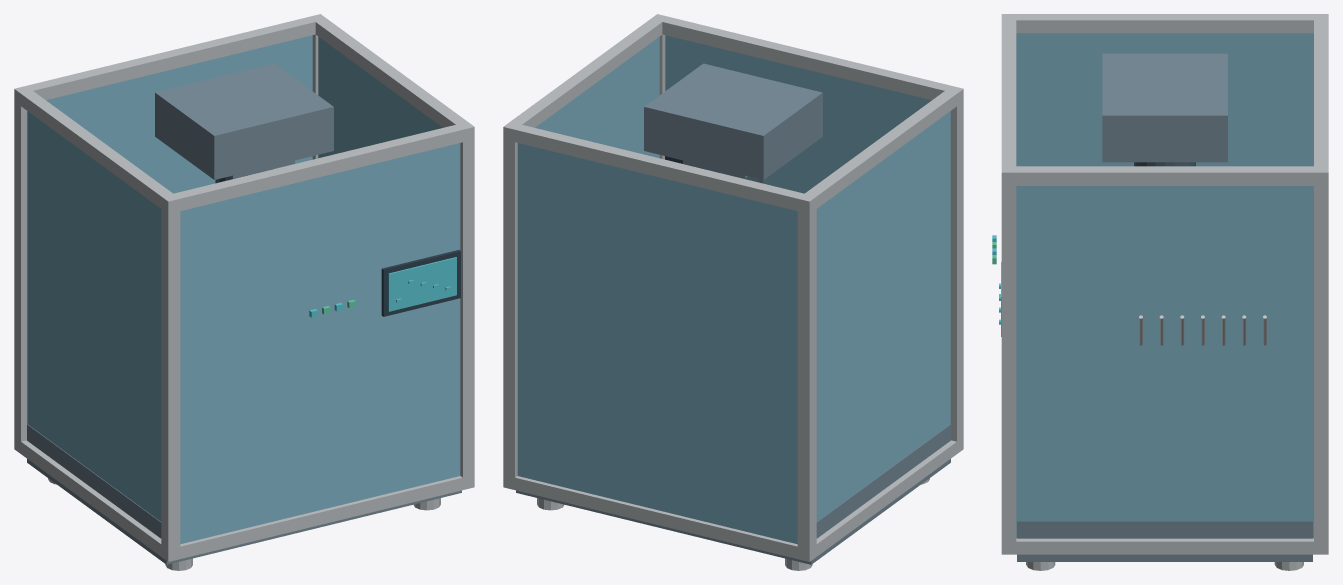
File: 32_L79_WaferBowInterferometryScanner.glb
3 views of the same model, side by side, from view 1: azimuth 30°, elevation 25°; view 2: azimuth 150°, elevation 25°; view 3: azimuth 270°, elevation 25° (orthographic). The views are drawn at different scales.
Parts seen in each view (by area): view 1: WaferBowInterferometryScanner_Node_0030, WaferBowInterferometryScanner_Node_0031, WaferBowInterferometryScanner_Node_0066, WaferBowInterferometryScanner_Node_0029, WaferBowInterferometryScanner_Node_0018, WaferBowInterferometryScanner_Node_0032, WaferBowInterferometryScanner_Node_0026, WaferBowInterferometryScanner_Node_0025, WaferBowInterferometryScanner_Node_0020, WaferBowInterferometryScanner_Node_0017, WaferBowInterferometryScanner_Node_0022, WaferBowInterferometryScanner_Node_0000 (+5 smaller); view 2: WaferBowInterferometryScanner_Node_0029, WaferBowInterferometryScanner_Node_0031, WaferBowInterferometryScanner_Node_0066, WaferBowInterferometryScanner_Node_0030, WaferBowInterferometryScanner_Node_0017, WaferBowInterferometryScanner_Node_0032, WaferBowInterferometryScanner_Node_0025, WaferBowInterferometryScanner_Node_0026, WaferBowInterferometryScanner_Node_0019, WaferBowInterferometryScanner_Node_0018, WaferBowInterferometryScanner_Node_0021, WaferBowInterferometryScanner_Node_0000 (+3 smaller); view 3: WaferBowInterferometryScanner_Node_0032, WaferBowInterferometryScanner_Node_0031, WaferBowInterferometryScanner_Node_0066, WaferBowInterferometryScanner_Node_0000, WaferBowInterferometryScanner_Node_0028, WaferBowInterferometryScanner_Node_0020, WaferBowInterferometryScanner_Node_0027, WaferBowInterferometryScanner_Node_0019, WaferBowInterferometryScanner_Node_0024, WaferBowInterferometryScanner_Node_0026, WaferBowInterferometryScanner_Node_0025.
Part boxes in pixels (x1,y1,x2,y2): WaferBowInterferometryScanner_Node_0030: (180, 143, 460, 544); WaferBowInterferometryScanner_Node_0031: (27, 111, 161, 521); WaferBowInterferometryScanner_Node_0066: (155, 63, 333, 179); WaferBowInterferometryScanner_Node_0029: (46, 35, 312, 193); WaferBowInterferometryScanner_Node_0018: (161, 194, 180, 561); WaferBowInterferometryScanner_Node_0032: (318, 37, 442, 158); WaferBowInterferometryScanner_Node_0026: (161, 122, 474, 213); WaferBowInterferometryScanner_Node_0025: (14, 14, 326, 105); WaferBowInterferometryScanner_Node_0020: (457, 122, 474, 489); WaferBowInterferometryScanner_Node_0017: (14, 86, 32, 453); WaferBowInterferometryScanner_Node_0022: (161, 475, 474, 561); WaferBowInterferometryScanner_Node_0000: (27, 424, 461, 564); WaferBowInterferometryScanner_Node_0029: (517, 143, 797, 544); WaferBowInterferometryScanner_Node_0031: (816, 111, 950, 521); WaferBowInterferometryScanner_Node_0066: (644, 63, 822, 179); WaferBowInterferometryScanner_Node_0030: (665, 35, 931, 193); WaferBowInterferometryScanner_Node_0017: (797, 193, 816, 561); WaferBowInterferometryScanner_Node_0032: (535, 37, 659, 158); WaferBowInterferometryScanner_Node_0025: (503, 122, 816, 213); WaferBowInterferometryScanner_Node_0026: (653, 14, 963, 104); WaferBowInterferometryScanner_Node_0019: (503, 122, 521, 489); WaferBowInterferometryScanner_Node_0018: (946, 86, 963, 453); WaferBowInterferometryScanner_Node_0021: (503, 475, 816, 560); WaferBowInterferometryScanner_Node_0000: (516, 424, 950, 564); WaferBowInterferometryScanner_Node_0032: (1016, 186, 1313, 538); WaferBowInterferometryScanner_Node_0031: (1016, 33, 1313, 166); WaferBowInterferometryScanner_Node_0066: (1102, 53, 1227, 162); WaferBowInterferometryScanner_Node_0000: (1017, 521, 1312, 561); WaferBowInterferometryScanner_Node_0028: (1002, 166, 1328, 185); WaferBowInterferometryScanner_Node_0020: (1001, 166, 1016, 554); WaferBowInterferometryScanner_Node_0027: (1002, 14, 1327, 33); WaferBowInterferometryScanner_Node_0019: (1314, 166, 1328, 554); WaferBowInterferometryScanner_Node_0024: (1003, 538, 1327, 554); WaferBowInterferometryScanner_Node_0026: (1001, 14, 1016, 185); WaferBowInterferometryScanner_Node_0025: (1314, 14, 1328, 185).
Bounding box in the file's own units: 2.3 × 2.67 × 1.95.
